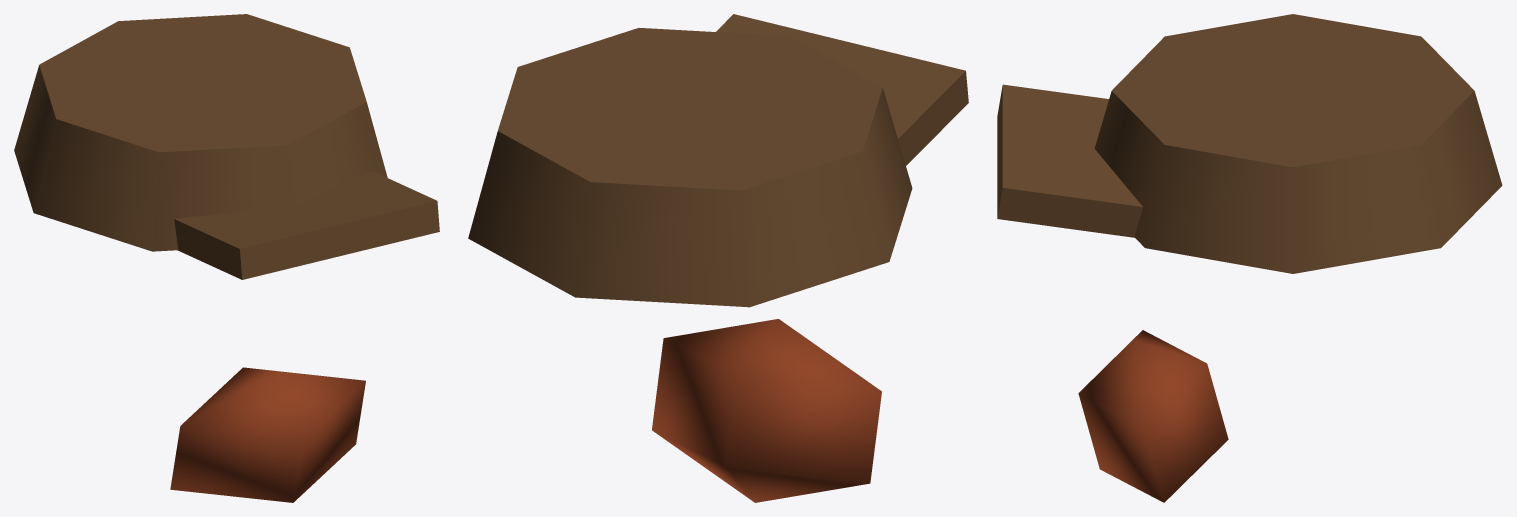
Rendered from hat_cap.glb.
3 views of the same model, side by side, from view 1: azimuth 30°, elevation 25°; view 2: azimuth 150°, elevation 25°; view 3: azimuth 270°, elevation 25° (orthographic). The views are drawn at different scales.
Visible parts, largest first — view 1: hat_cap; view 2: hat_cap; view 3: hat_cap.
Boxes of the visible parts, x1,y1,x2,y2 form: hat_cap: (14,14,439,502); hat_cap: (468,14,968,502); hat_cap: (997,14,1502,502).
Bounding box in the file's own units: 0.162 × 0.1715 × 0.1954.
